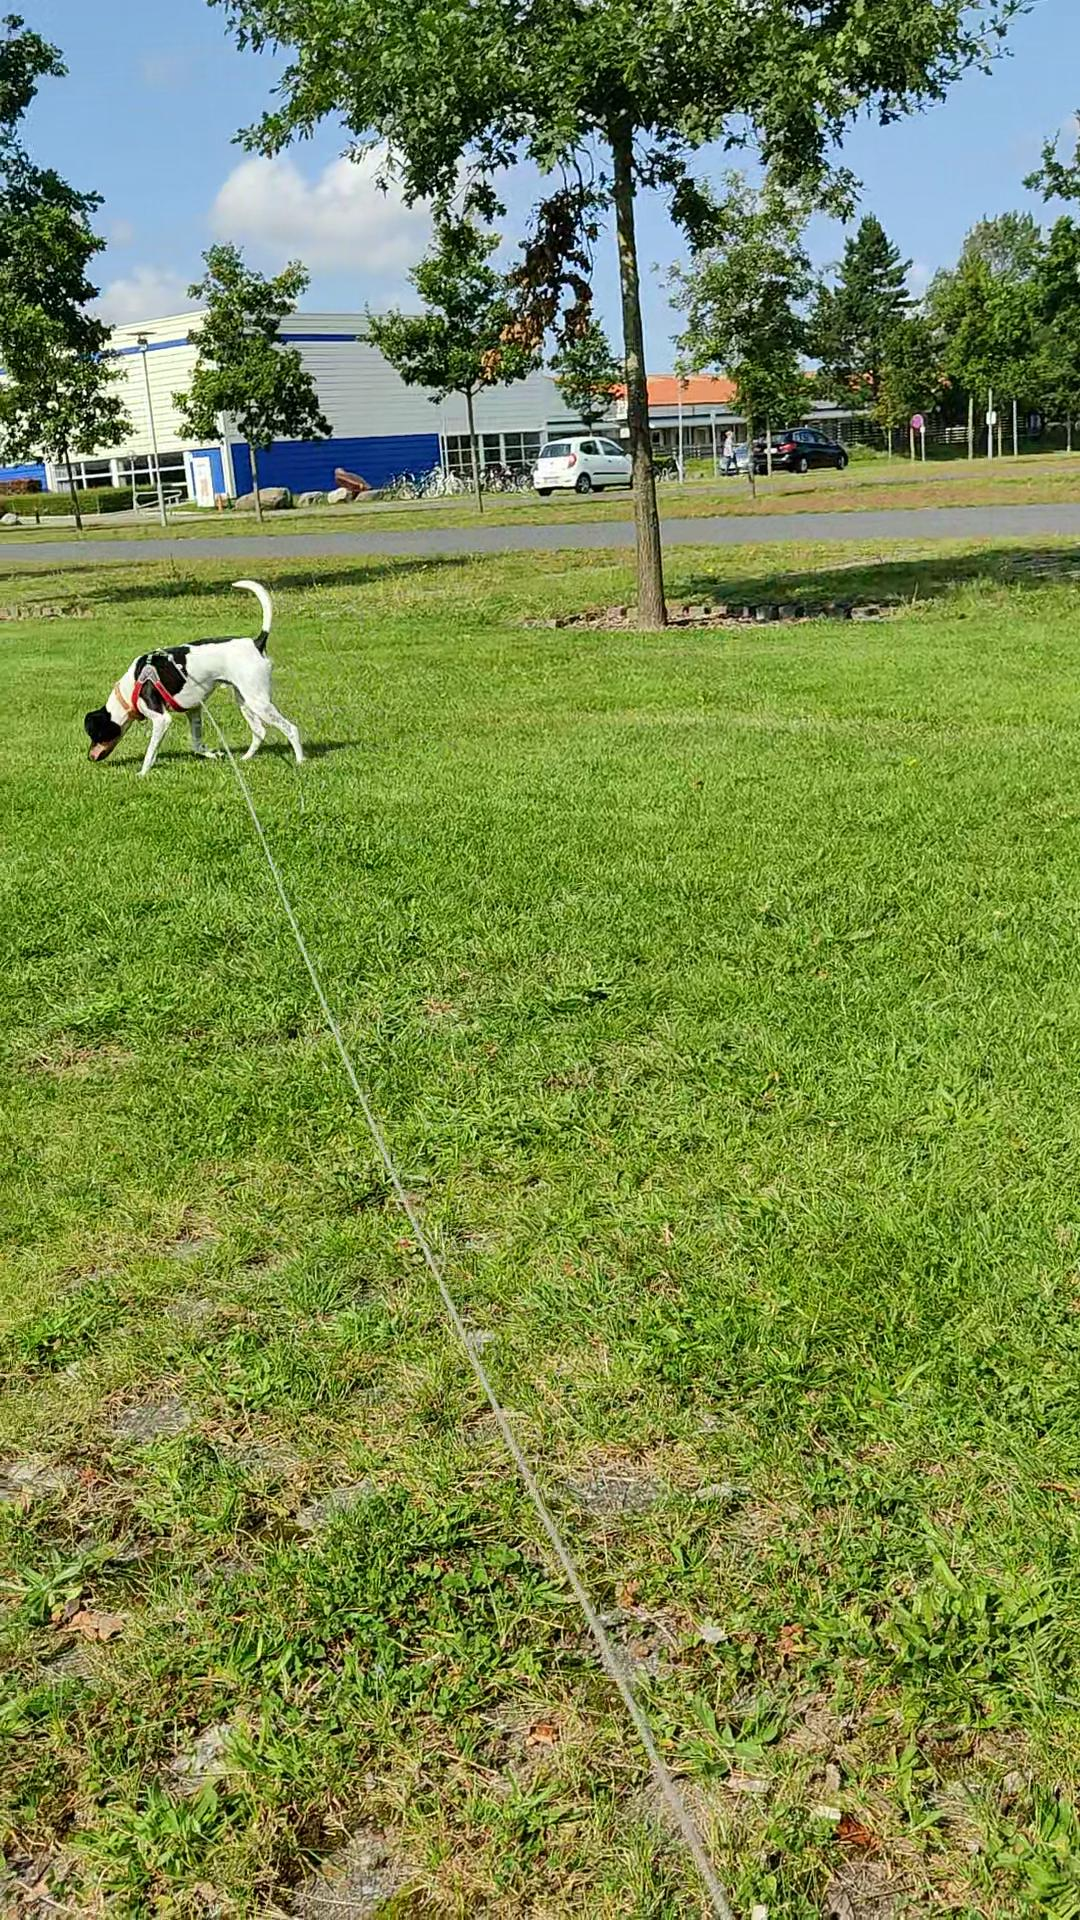Dog: (82, 576, 316, 775)
